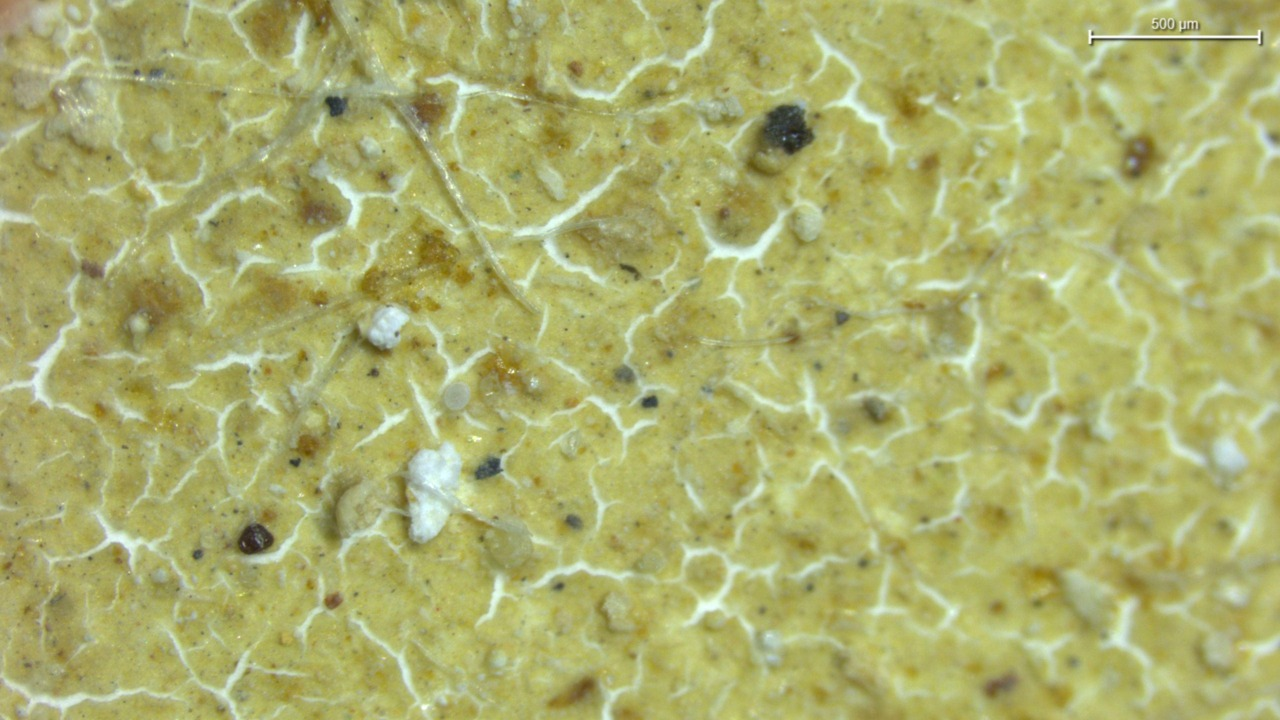microplastic_fragment: (406, 443, 461, 543), (367, 306, 409, 350), (791, 202, 824, 242), (443, 383, 470, 411)
